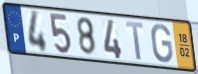4: (27, 9, 49, 55), (102, 17, 124, 61)
5: (48, 12, 74, 55)
8: (76, 16, 98, 57)
G: (150, 23, 174, 65)
T: (124, 20, 145, 62)
